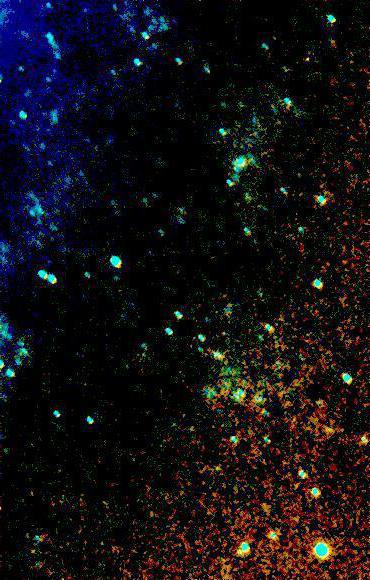star: (293, 45, 323, 75)
